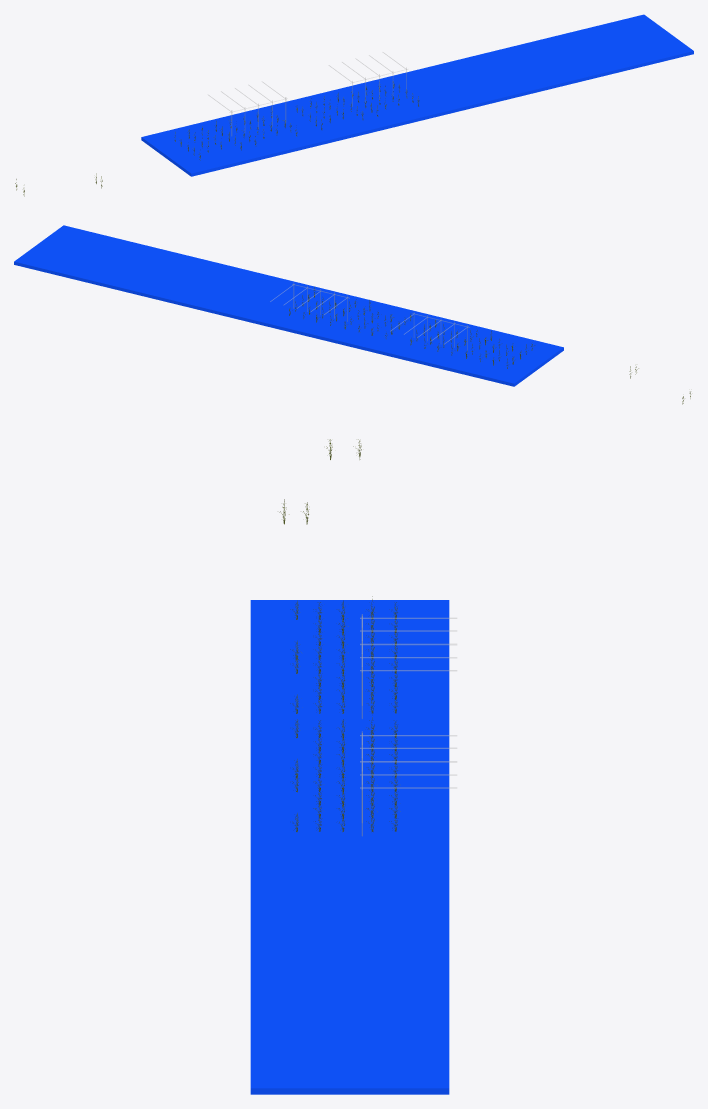
3 views of the same model, one above another, from view 1: azimuth 30°, elevation 25°; view 2: azimuth 150°, elevation 25°; view 3: azimuth 270°, elevation 25° (orthographic). The views are drawn at different scales.
Visible parts, largest first — view 1: 立方体.021; view 2: 立方体.021; view 3: 立方体.021.
Part boxes in pixels (left/top/right/bottom): 立方体.021: left=141, top=14, right=693, bottom=176; 立方体.021: left=14, top=225, right=563, bottom=386; 立方体.021: left=250, top=600, right=449, bottom=1094.
Bounding box in the file's own units: 48.22 × 2.08 × 6.65.
4 materials, 2 textured.
